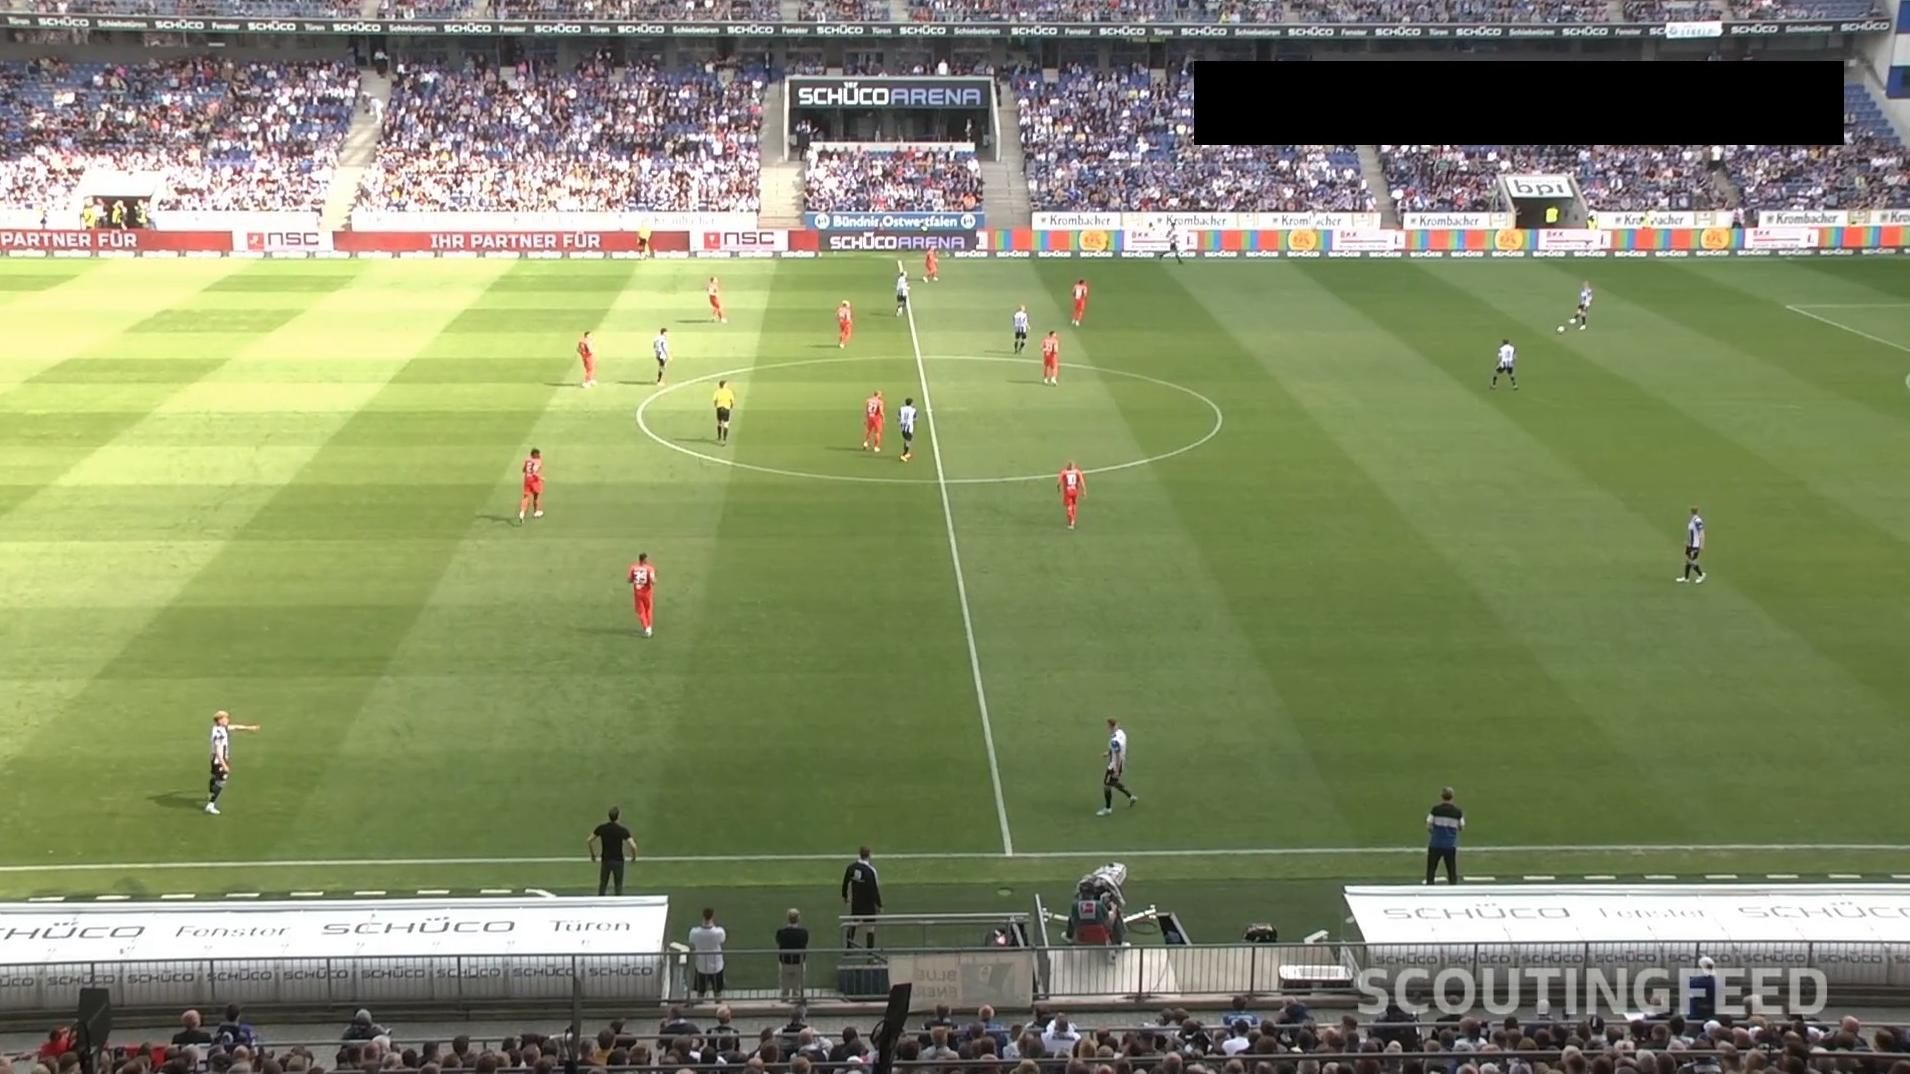ball: (1554, 324, 1566, 334)
